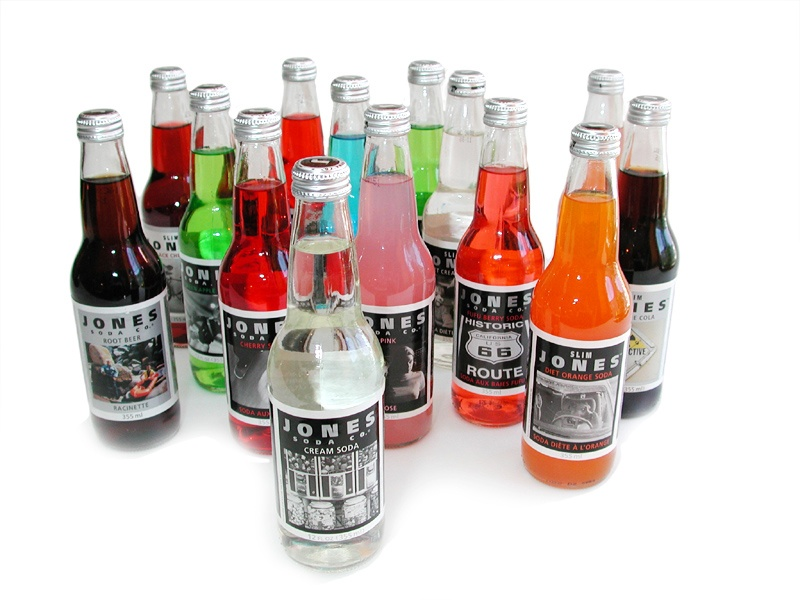Glass bottle: (231, 161, 407, 570), (43, 91, 201, 448), (519, 96, 634, 505), (435, 75, 553, 456), (591, 69, 705, 427), (336, 77, 451, 431), (147, 57, 249, 420), (206, 87, 304, 452), (417, 48, 507, 333), (372, 32, 458, 215), (244, 44, 346, 185), (540, 31, 635, 177), (304, 51, 378, 209)
